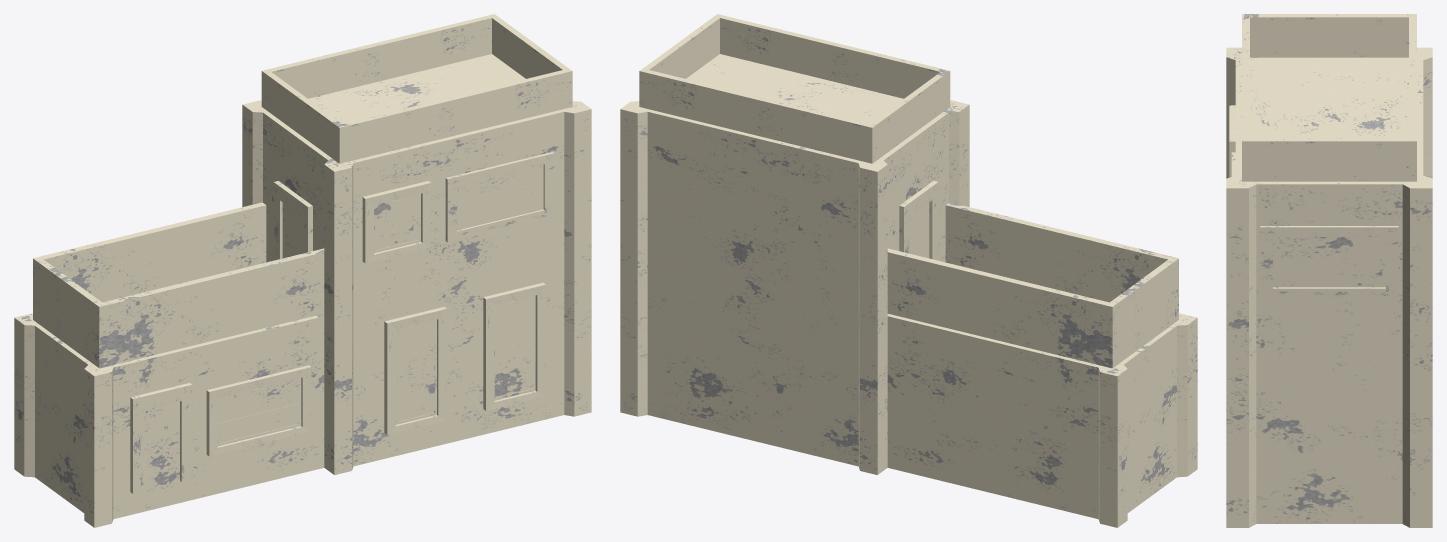
File: buildig.002_peeling_paint_(concrete)_(white)_0.001_lev3.glb
3 renders of one model, left to right at view 1: azimuth 30°, elevation 25°; view 2: azimuth 150°, elevation 25°; view 3: azimuth 270°, elevation 25°, orthographic. The views are drawn at different scales.
Parts seen in each view (by area): view 1: buildig.002_peeling_paint_(concrete)_(white)_0.001_lev3; view 2: buildig.002_peeling_paint_(concrete)_(white)_0.001_lev3; view 3: buildig.002_peeling_paint_(concrete)_(white)_0.001_lev3.
Boxes of the visible parts, bbox=[...] form: buildig.002_peeling_paint_(concrete)_(white)_0.001_lev3: bbox=[14, 14, 591, 527]; buildig.002_peeling_paint_(concrete)_(white)_0.001_lev3: bbox=[620, 14, 1197, 527]; buildig.002_peeling_paint_(concrete)_(white)_0.001_lev3: bbox=[1226, 14, 1432, 527].
Bounding box in the file's own units: 4.12 × 2.72 × 1.34.
1 material, 1 textured.
